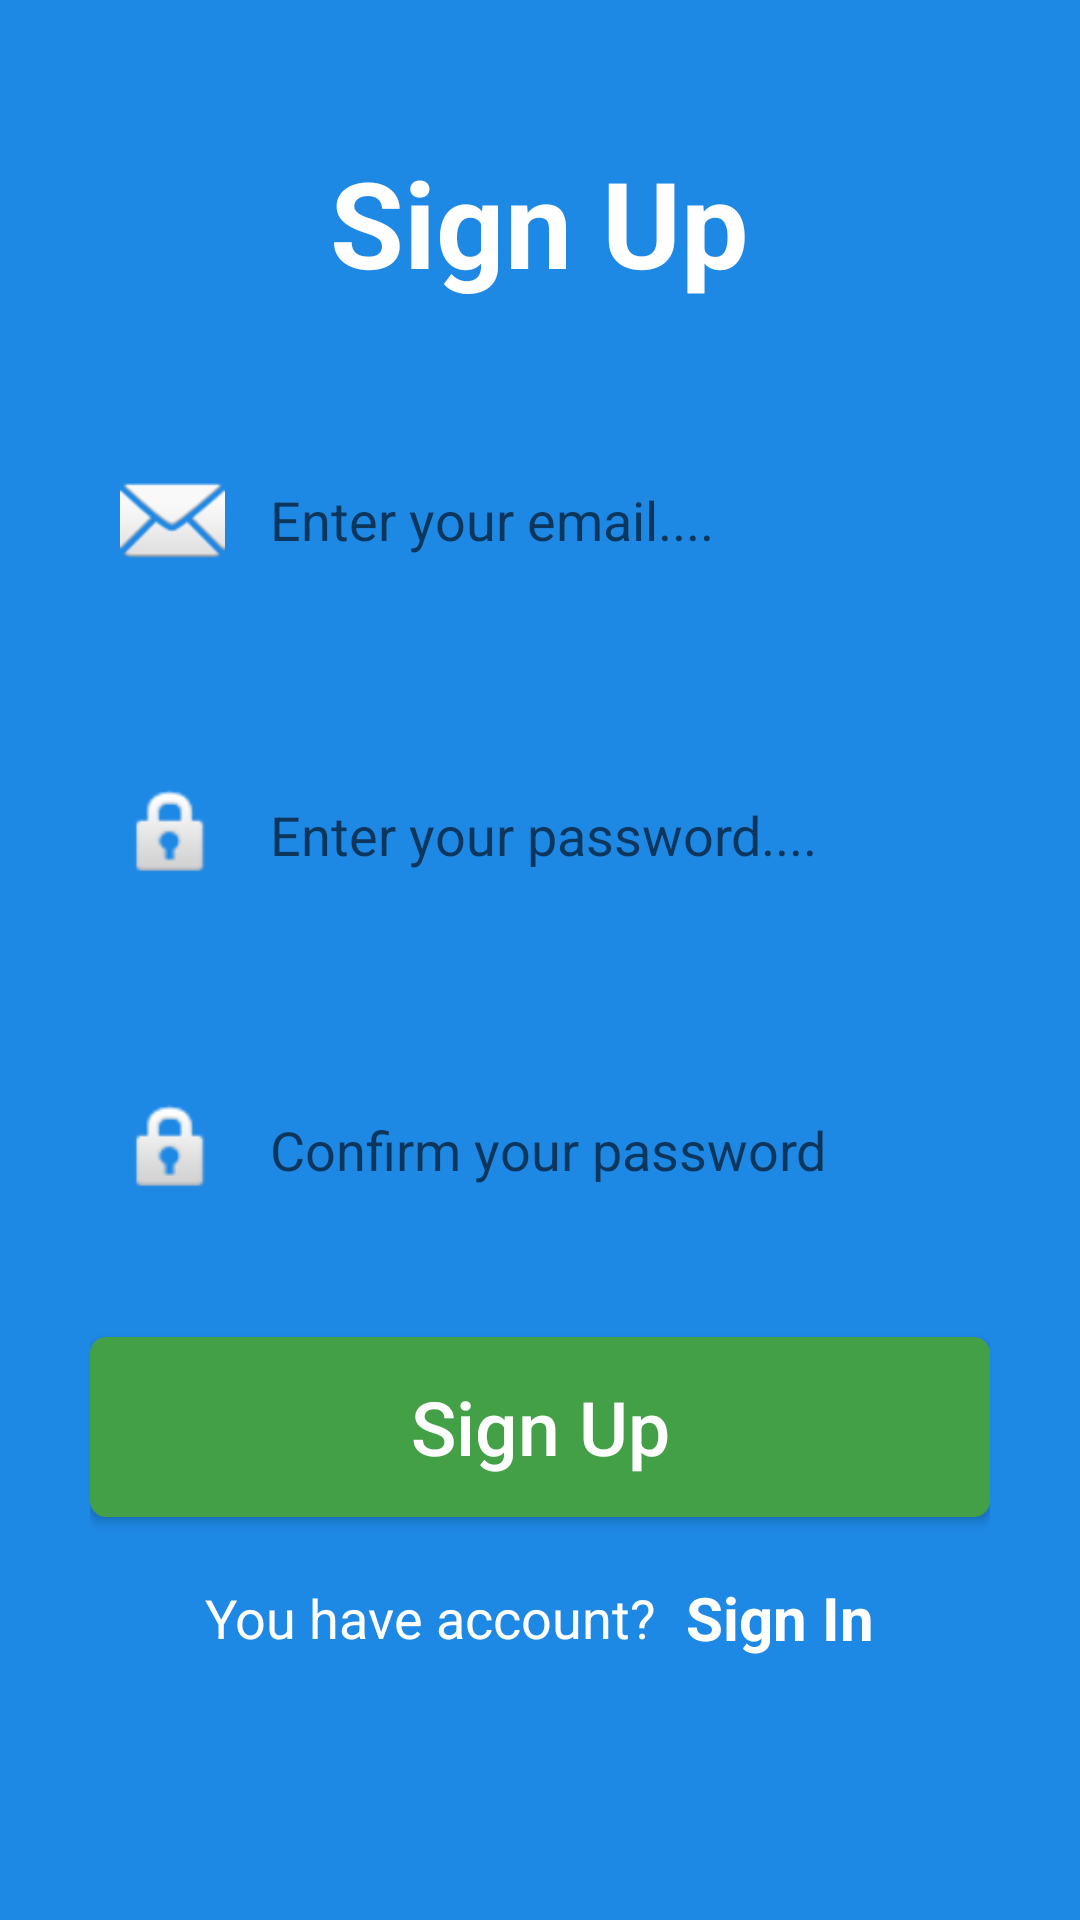

Locate icon controls on the screen. Image size 1080px x 1920px, boxes as (x1, y1, x2, y2).
lock idle: (136, 791, 204, 871), (136, 1106, 205, 1186)
